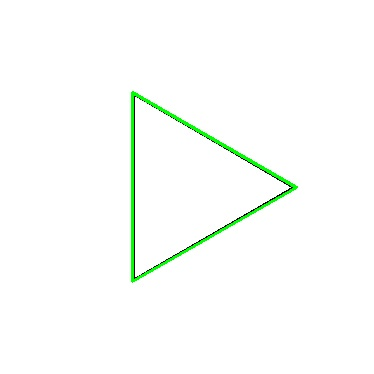line_segment: (131, 92, 297, 282)
